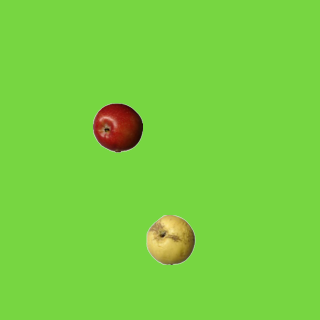Apple Braeburn: (92, 102, 142, 152)
Apple Golden 1: (145, 214, 195, 264)
